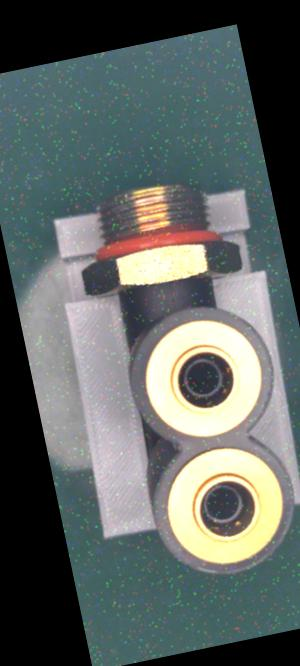joint line: (169, 294, 181, 315)
